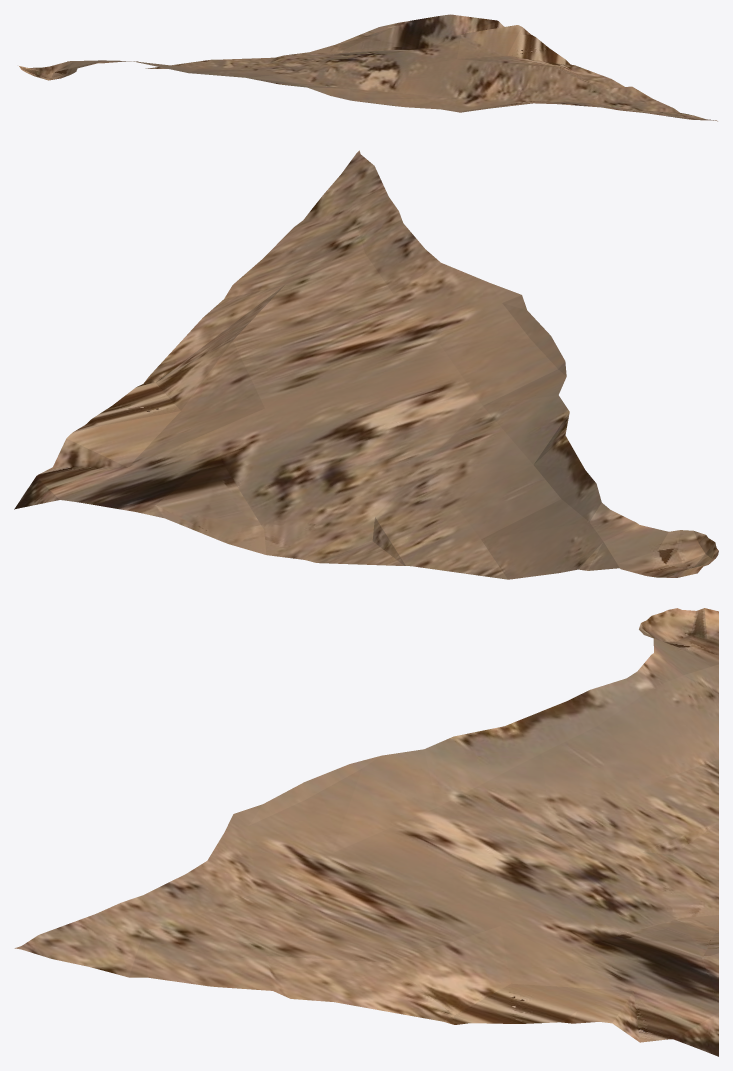
The picture shows the model from 3 angles, top to bottom: view 1: azimuth 30°, elevation 25°; view 2: azimuth 150°, elevation 25°; view 3: azimuth 270°, elevation 25°; orthographic projection. The views are drawn at different scales.
Bounding box in the file's own units: 1.04 × 0.1553 × 0.9144.
1 material, 1 textured.
